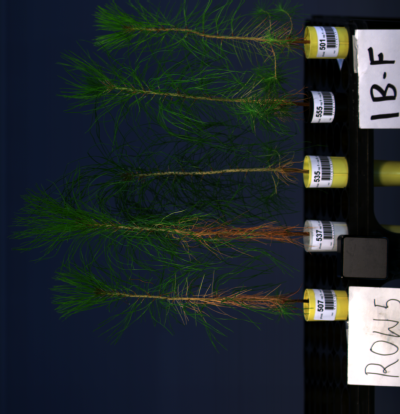tube: (304, 26, 350, 61), (302, 288, 348, 323), (303, 218, 349, 253), (305, 155, 351, 190), (301, 90, 347, 125)
